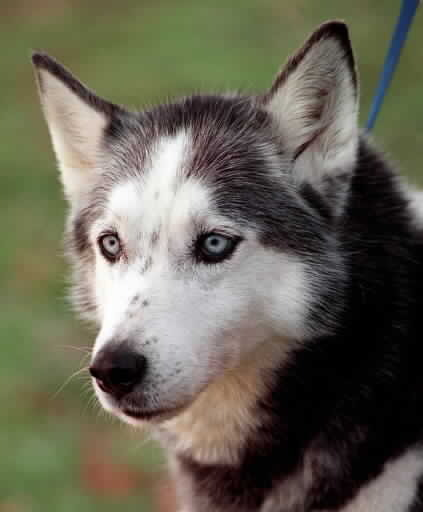dog: (30, 19, 421, 510)
